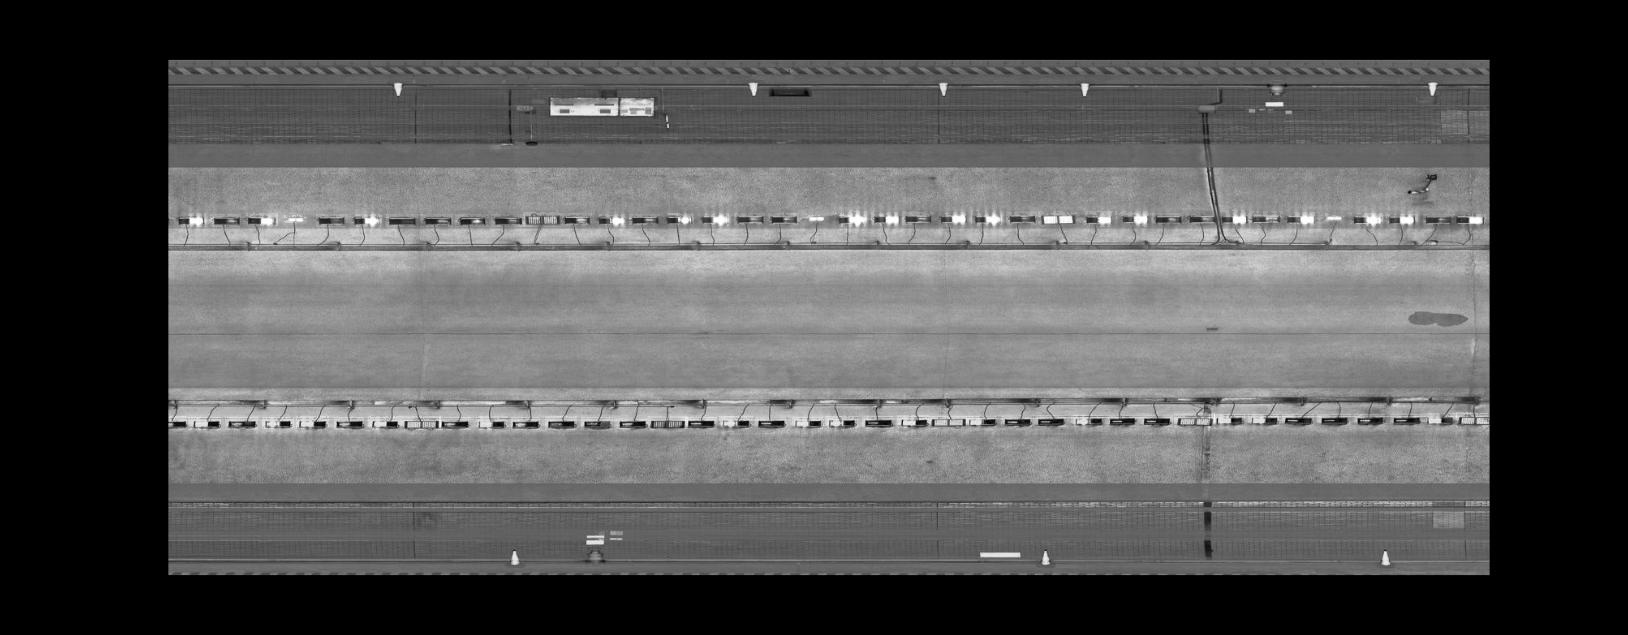light: (1038, 211, 1077, 227), (1174, 413, 1215, 427), (523, 212, 561, 227), (835, 210, 867, 227), (1084, 211, 1117, 227), (1119, 211, 1151, 227), (402, 416, 441, 430), (971, 210, 1002, 226), (648, 416, 688, 429), (1456, 412, 1488, 427), (1351, 213, 1384, 227), (1217, 210, 1250, 224), (243, 213, 278, 226), (902, 211, 934, 225), (929, 416, 967, 429), (491, 214, 525, 227), (455, 214, 489, 227), (368, 416, 402, 430), (1006, 211, 1037, 225), (871, 212, 902, 226), (385, 214, 418, 227), (350, 214, 383, 227), (420, 214, 453, 227), (316, 214, 348, 227), (545, 416, 577, 430), (476, 416, 508, 430), (1139, 415, 1173, 427), (1105, 415, 1139, 427), (177, 213, 206, 227), (561, 213, 592, 226), (210, 214, 241, 227), (581, 417, 613, 431), (1250, 211, 1283, 223), (1423, 413, 1457, 425), (1033, 415, 1066, 427), (720, 416, 753, 429), (296, 416, 329, 429), (188, 417, 221, 430), (699, 213, 729, 226), (596, 214, 626, 227), (1283, 212, 1315, 224), (1282, 414, 1314, 426), (1071, 415, 1104, 427), (897, 415, 929, 427), (862, 416, 894, 429), (825, 416, 858, 429), (439, 417, 471, 430), (225, 417, 257, 430), (938, 212, 967, 225), (1317, 414, 1351, 425), (768, 213, 799, 225), (734, 213, 765, 225), (1248, 414, 1279, 426), (1453, 214, 1486, 225), (1385, 214, 1418, 225), (1390, 414, 1423, 425), (334, 417, 364, 430), (792, 417, 824, 429), (755, 417, 787, 429), (685, 417, 717, 429), (262, 417, 294, 429), (664, 213, 694, 225), (511, 417, 540, 430), (1423, 214, 1455, 225), (1152, 213, 1184, 224), (629, 214, 660, 225), (1354, 414, 1385, 425), (1214, 414, 1245, 425), (1001, 416, 1032, 427), (966, 416, 997, 427), (614, 418, 648, 429), (1185, 214, 1217, 224), (168, 416, 187, 427), (284, 214, 306, 223), (806, 214, 826, 222), (1324, 213, 1345, 219)
